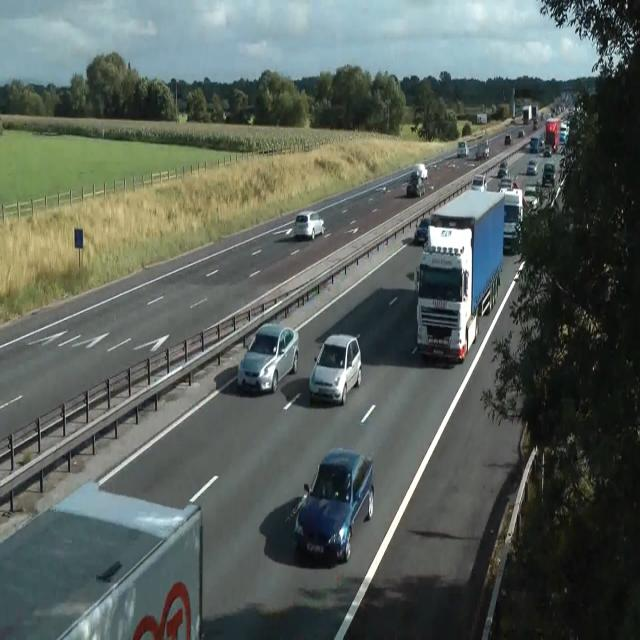bus: (295, 210, 325, 240), (414, 216, 430, 244), (406, 175, 424, 197), (523, 186, 539, 210), (410, 162, 428, 180), (470, 174, 488, 191), (497, 177, 515, 192), (475, 141, 489, 160), (457, 140, 468, 158), (526, 158, 538, 174), (497, 165, 508, 178), (530, 136, 538, 152), (559, 130, 567, 144), (543, 146, 551, 156), (505, 133, 511, 144), (533, 117, 538, 129), (539, 138, 545, 148), (518, 129, 524, 137)
jeep: (293, 446, 374, 563), (237, 322, 299, 394), (308, 332, 362, 406), (542, 162, 556, 186)
minibus: (0, 478, 203, 639), (414, 188, 504, 362), (469, 175, 523, 252), (501, 188, 523, 252), (457, 137, 489, 160), (545, 118, 559, 151), (522, 104, 538, 124), (559, 120, 569, 144), (477, 113, 487, 124)
